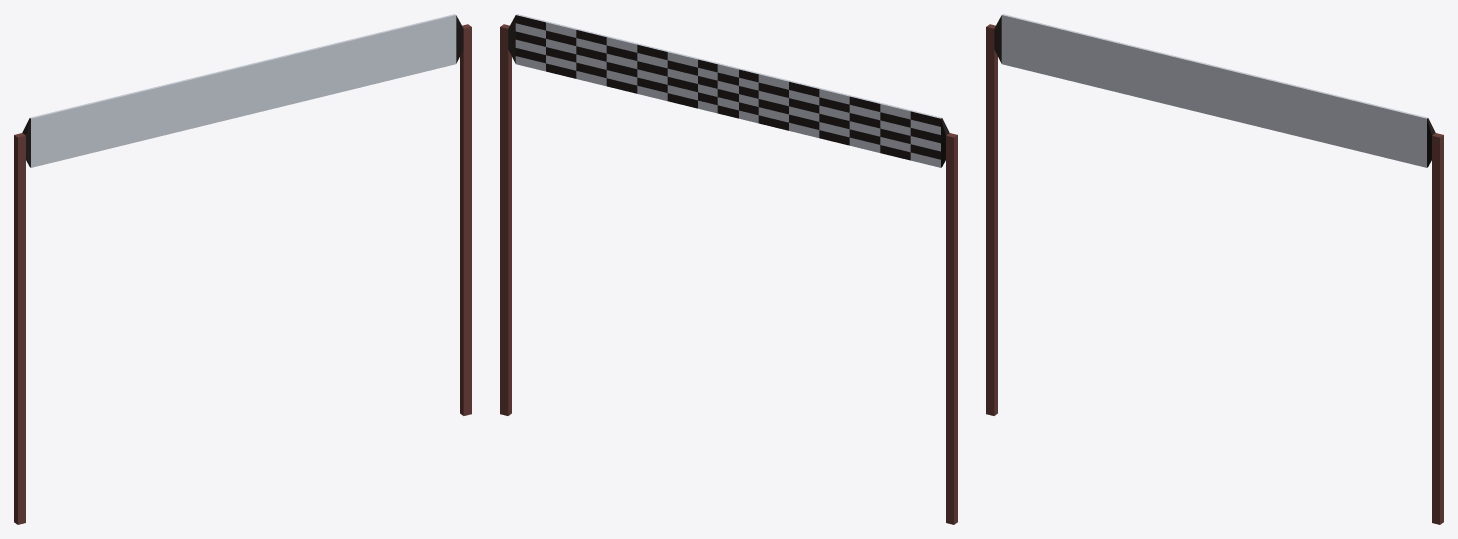
Rendered from Checkpoint.glb.
The picture shows the model from 3 angles, left to right: view 1: azimuth 30°, elevation 25°; view 2: azimuth 150°, elevation 25°; view 3: azimuth 330°, elevation 25°; orthographic projection.
Parts seen in each view (by area): view 1: Cube; view 2: Cube; view 3: Cube.
Part boxes in pixels (x1=…): Cube: x1=14, y1=14, x2=471, y2=524; Cube: x1=500, y1=14, x2=957, y2=524; Cube: x1=986, y1=14, x2=1443, y2=524.
Size of the model in its own units: 47.17 by 39.9 by 0.6775.
Materials: 1 (1 with a texture image).
